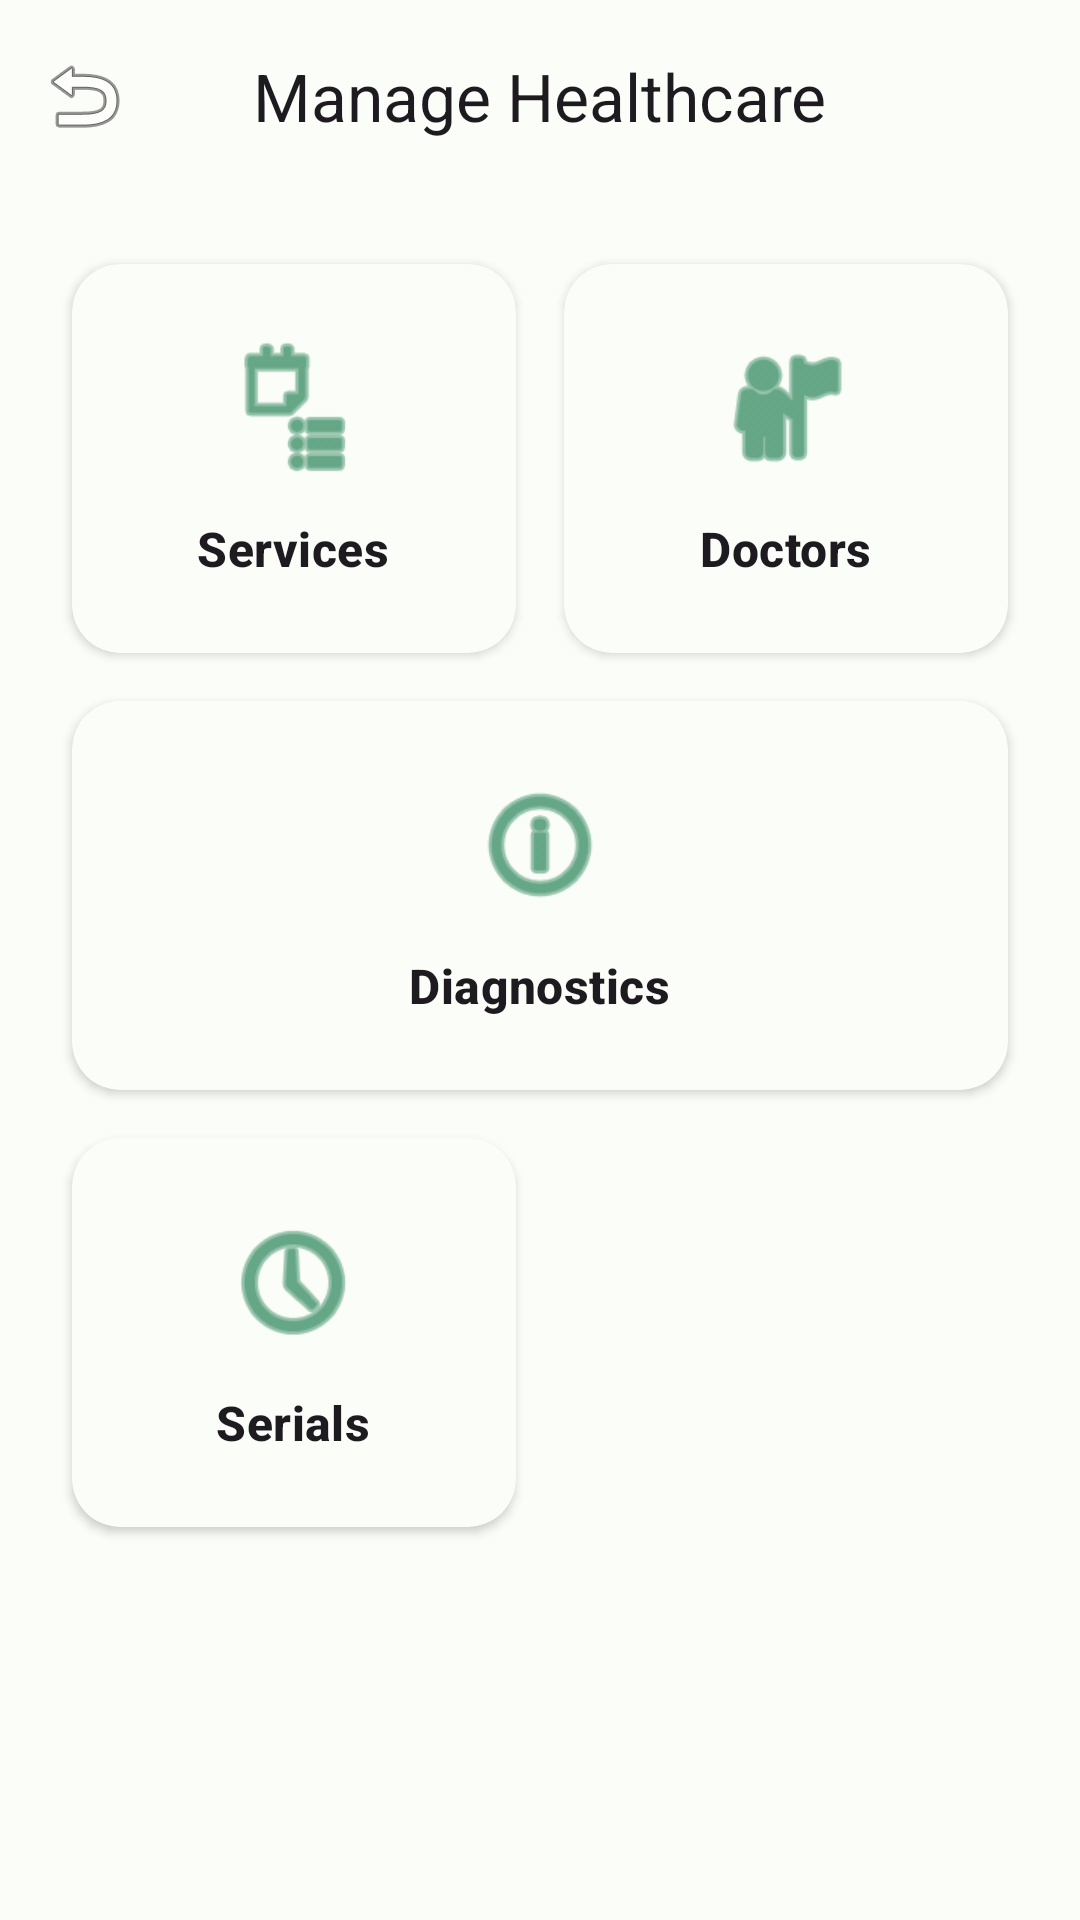

Screen size 1080*1920. Icon name, then its center in pixels as (x,y):
agenda: (294,407)
info details: (540,845)
myplaces: (787,408)
recent history: (293,1283)
